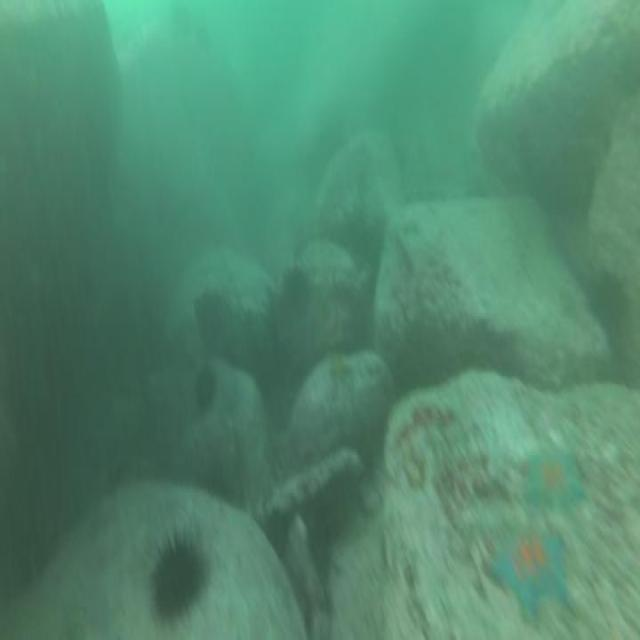echinus: (146, 526, 210, 632), (581, 265, 632, 340), (277, 260, 312, 328), (192, 284, 223, 343), (192, 357, 221, 414), (360, 223, 388, 280)
starfish: (494, 515, 574, 629), (521, 446, 587, 516), (327, 349, 355, 394)
